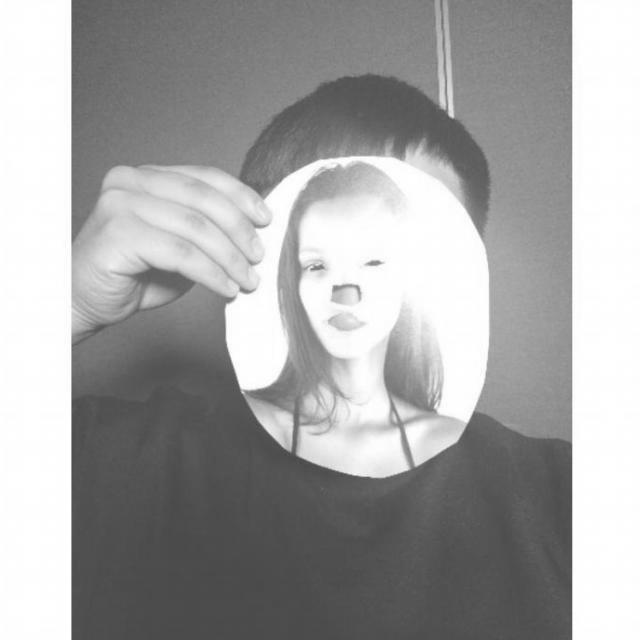fake: (220, 154, 494, 480)
